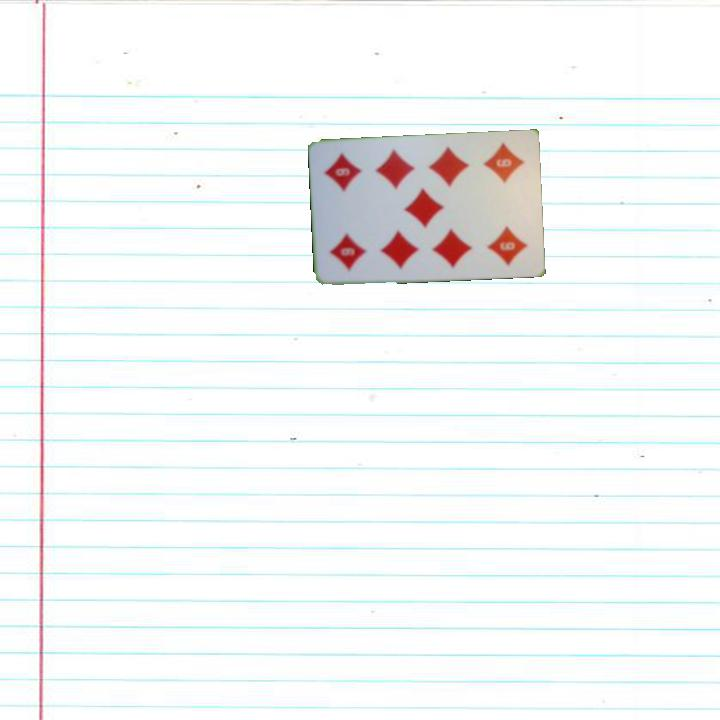d_9.png: (321, 207, 382, 277), (471, 139, 532, 208)
